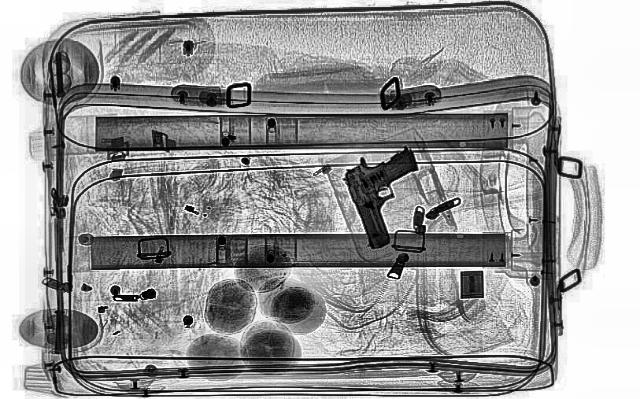Gun: (318, 142, 464, 250)
